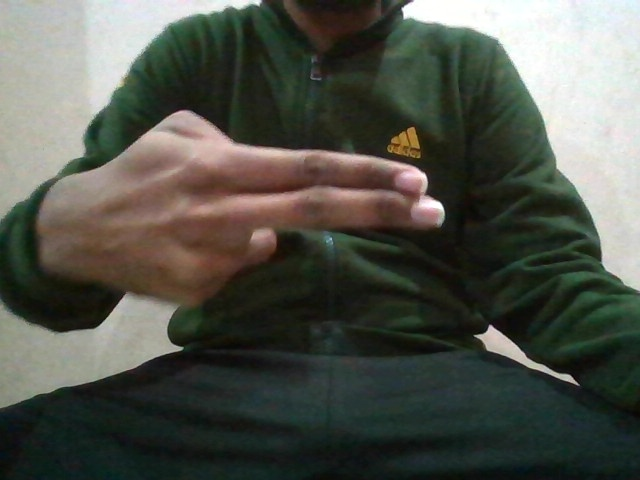H: (42, 110, 446, 308)
